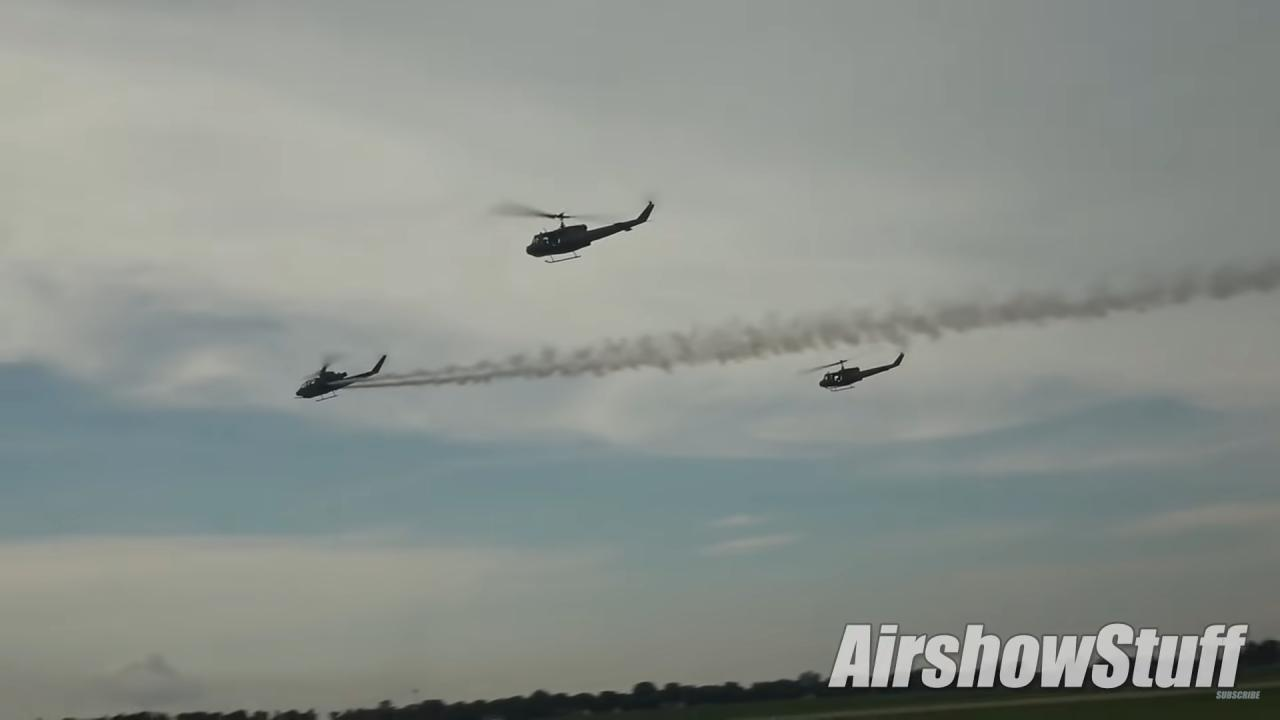Helicopter: (487, 192, 670, 267), (285, 341, 396, 412), (792, 338, 917, 397)
